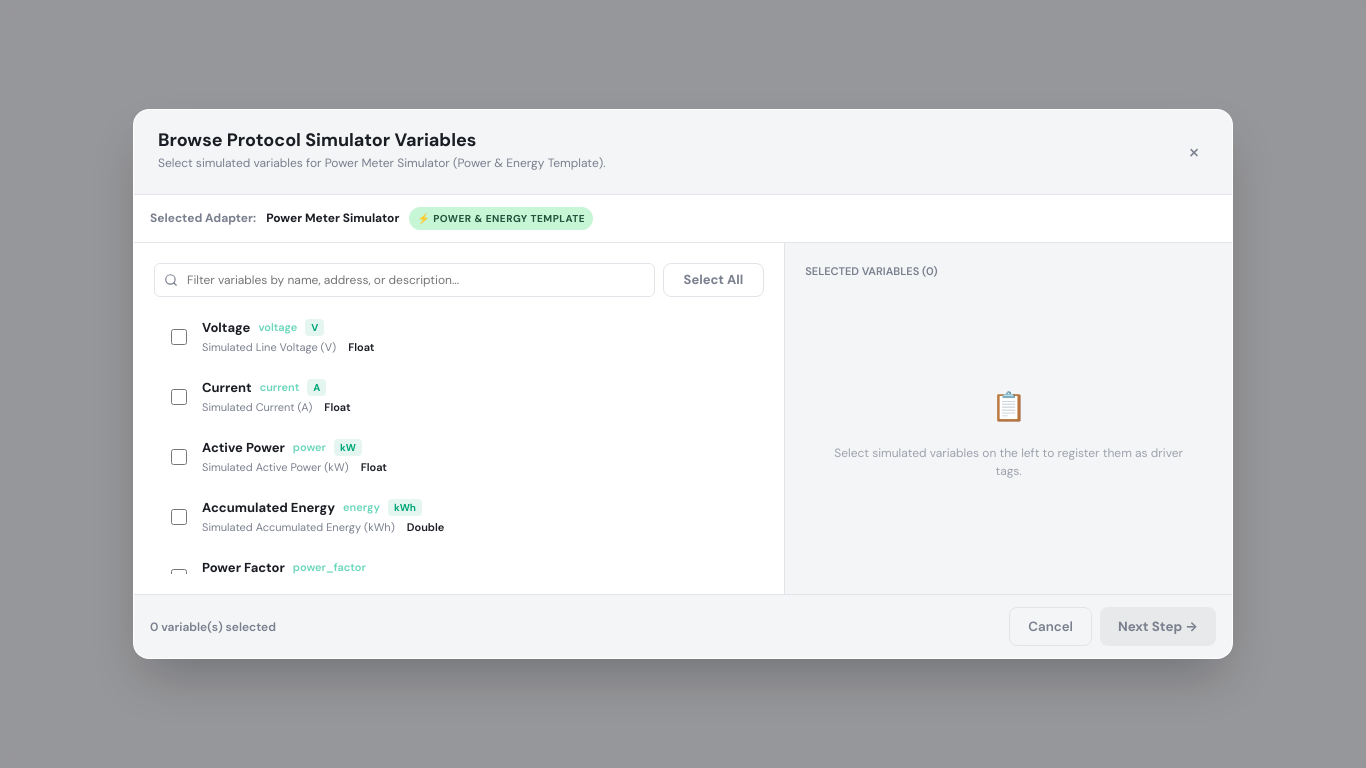
Test: SimulatorBrowserModal › filters variables when searching
This screenshot has width=1366, height=768.
Step 1. Type "voltage" into the field with placeholder "Filter variables by name, address, or description..." → point(404, 280), box x1=154 y1=263 x2=654 y2=297
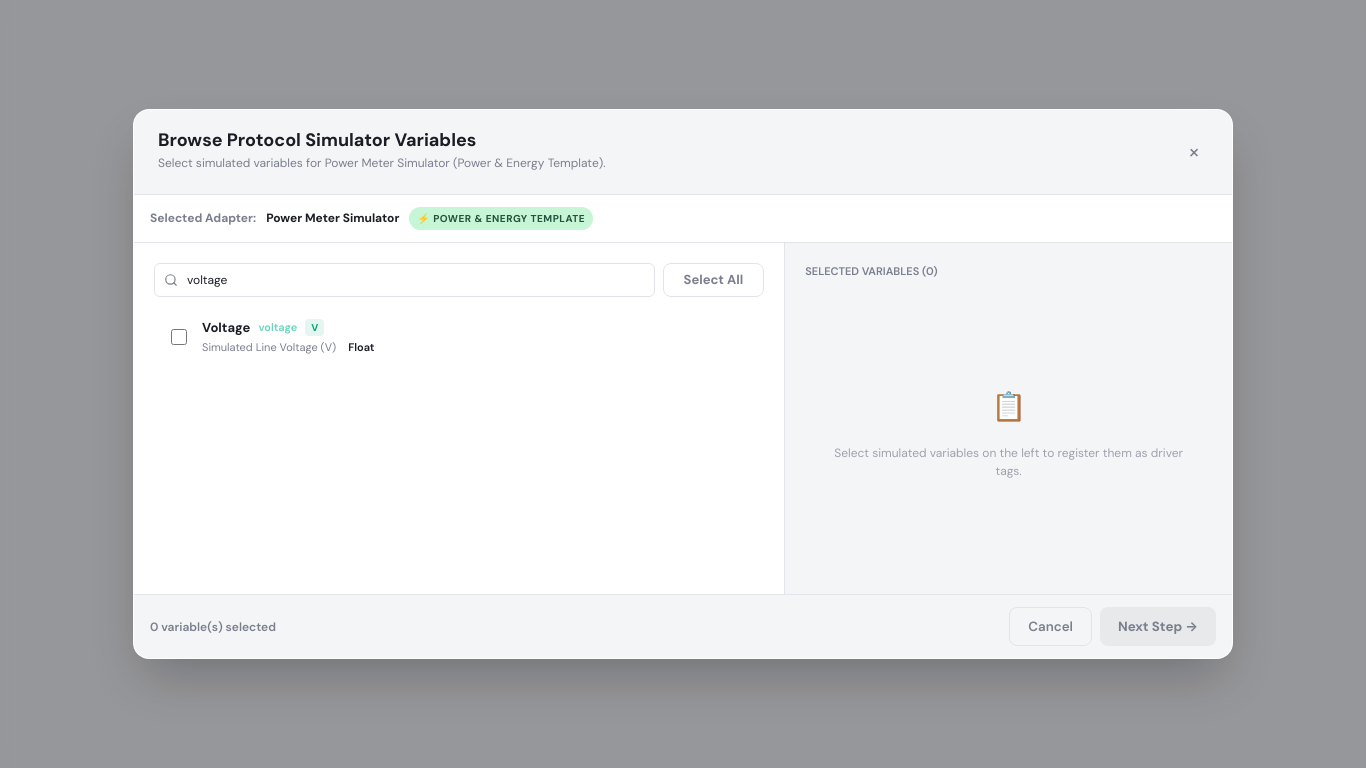
Expected: the text "Voltage" is shown, x1=202 y1=318 x2=250 y2=337
Now the text "Accumulated Energy" is gone
